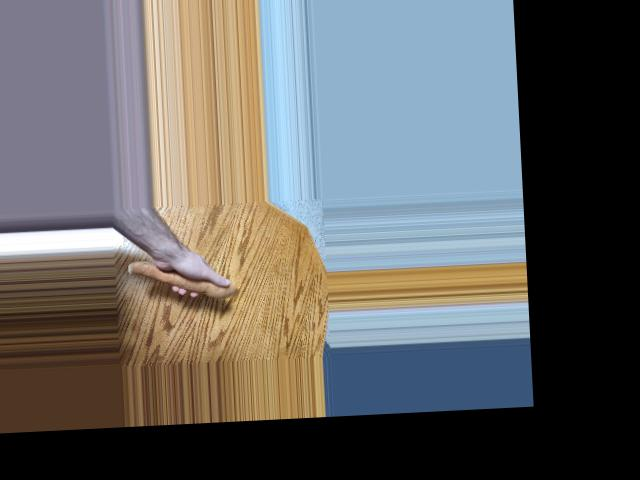sweet_potato: (126, 252, 235, 307)
